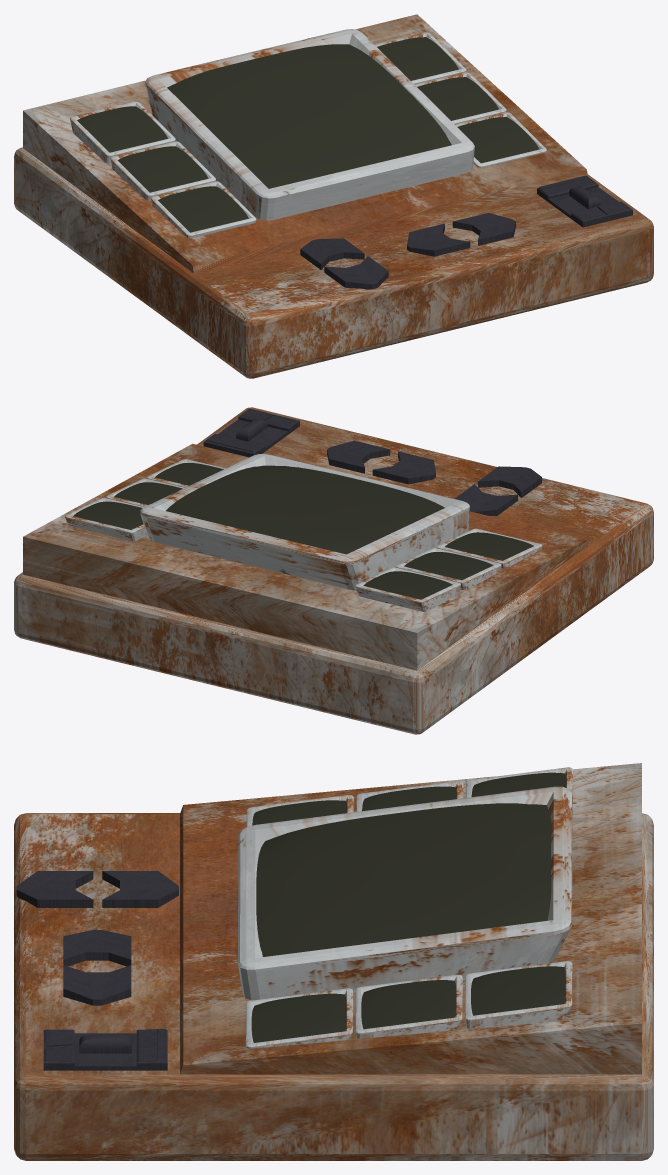
Rendered from Console-Cheap.glb.
3 views of the same model, one above another, from view 1: azimuth 30°, elevation 25°; view 2: azimuth 150°, elevation 25°; view 3: azimuth 270°, elevation 25° (orthographic). The views are drawn at different scales.
Visible parts, largest first — view 1: Plane, Cube.001, Cube.002, Cube.009, Cube.012, Cube.013, Plane.001, Cube.014, Cube.010, Cube.011, Plane.004, Plane.005 (+2 smaller); view 2: Plane, Cube.001, Cube.002, Cube.013, Cube.014, Plane.001, Cube.009, Cube.012, Cube.011, Plane.005, Plane.002, Plane.004 (+2 smaller); view 3: Plane, Cube.001, Cube.002, Cube.009, Cube.012, Cube.013, Plane.001, Cube.014, Cube.011, Plane.004, Plane.003, Cube.010 (+2 smaller).
Boxes of the visible parts, box(x1,y1,x2,y2) form: Plane: box(14, 14, 653, 378); Cube.001: box(167, 44, 451, 188); Cube.002: box(145, 29, 474, 220); Cube.009: box(158, 117, 539, 232); Cube.012: box(117, 77, 498, 192); Cube.013: box(77, 37, 458, 152); Plane.001: box(537, 175, 632, 227); Cube.014: box(70, 32, 466, 163); Cube.010: box(150, 112, 546, 238); Cube.011: box(110, 72, 506, 200); Plane.004: box(324, 256, 388, 289); Plane.005: box(407, 223, 470, 256); Plane: box(14, 407, 653, 734); Cube.001: box(166, 465, 444, 554); Cube.002: box(140, 454, 469, 590); Cube.013: box(73, 501, 452, 599); Cube.014: box(65, 498, 460, 611); Plane.001: box(203, 408, 299, 457); Cube.009: box(155, 463, 533, 560); Cube.012: box(114, 482, 493, 580); Cube.011: box(105, 478, 501, 589); Plane.005: box(372, 451, 435, 484); Plane.002: box(327, 440, 390, 473); Plane.004: box(478, 466, 541, 497); Plane: box(14, 763, 653, 1160); Cube.001: box(256, 803, 551, 956); Cube.002: box(238, 786, 572, 1000); Cube.009: box(251, 800, 346, 1042); Cube.012: box(361, 786, 456, 1029); Cube.013: box(471, 772, 566, 1015); Plane.001: box(43, 1029, 167, 1070); Cube.014: box(465, 767, 572, 1028); Cube.011: box(355, 781, 463, 1038); Plane.004: box(16, 871, 93, 907); Plane.003: box(102, 871, 178, 907); Cube.010: box(245, 795, 353, 1048).
Size of the model in its own units: 2 by 0.6107 by 2.
9 materials, 6 textured.
